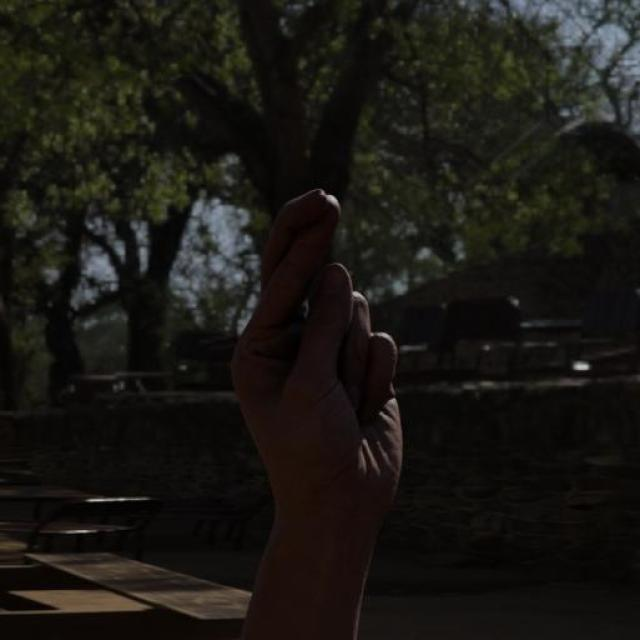R: (229, 180, 412, 522)
